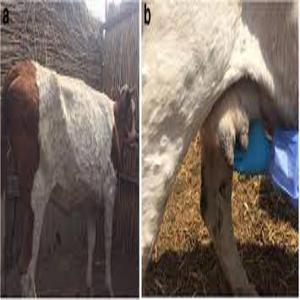lumpy skin diesease: (140, 0, 298, 296), (0, 57, 137, 297)
